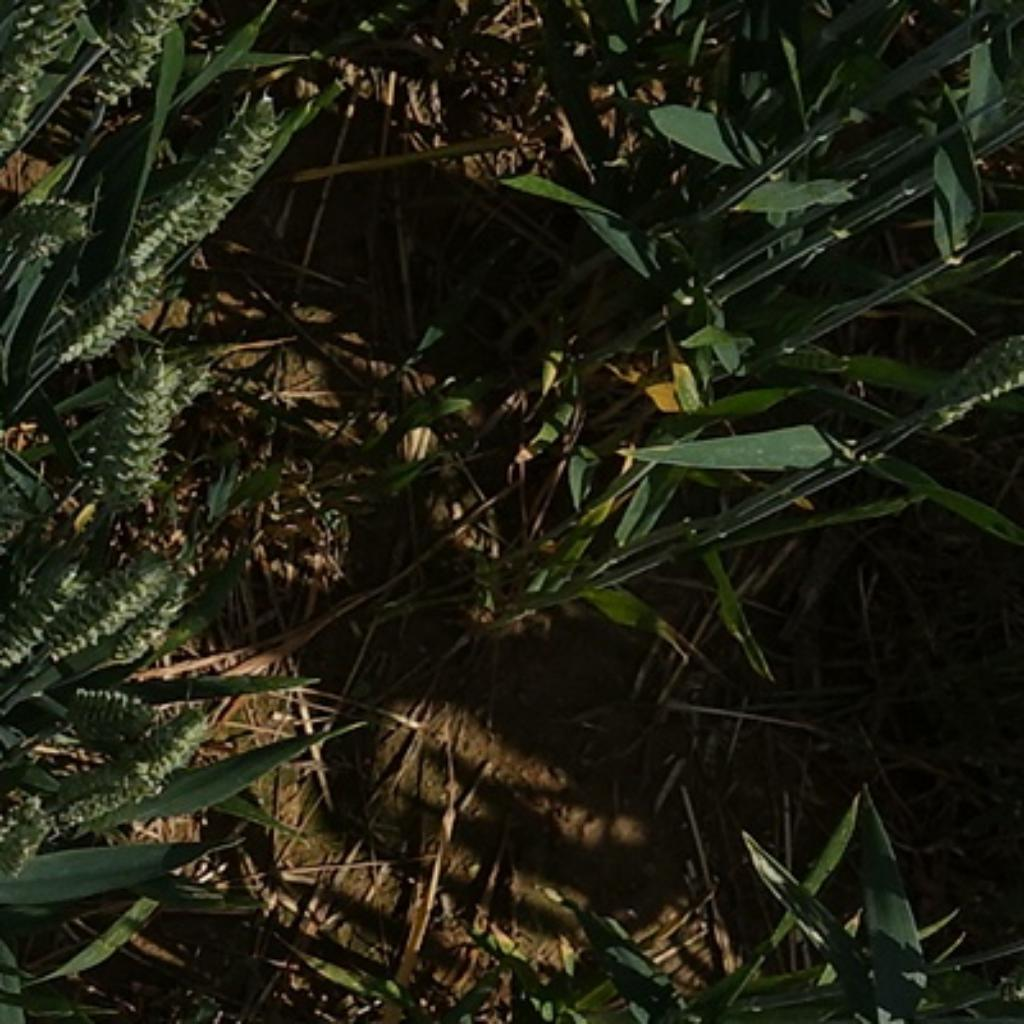0-0: (64, 348, 194, 509), (168, 87, 289, 250), (53, 715, 215, 822), (53, 558, 181, 657), (48, 250, 161, 360), (84, 2, 194, 104), (921, 327, 1024, 430), (0, 550, 87, 668), (0, 2, 79, 107), (117, 576, 199, 675), (56, 679, 161, 754), (0, 184, 92, 263), (130, 186, 204, 273), (2, 789, 63, 871)
